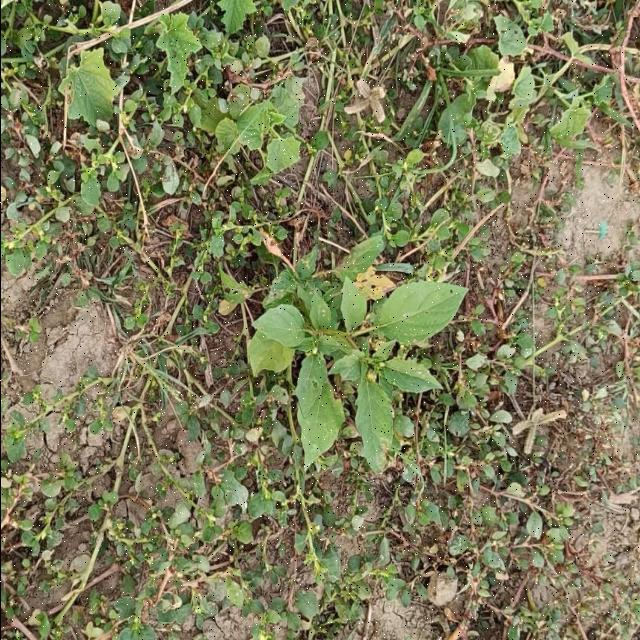weed: (246, 237, 465, 473)
